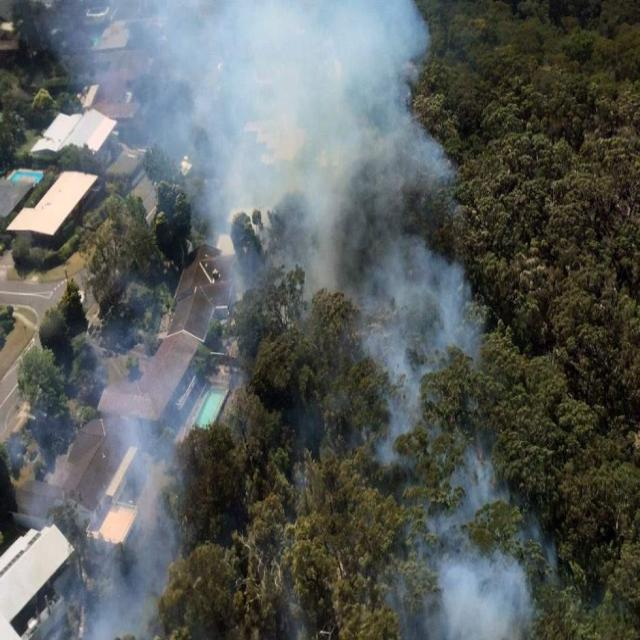Smoke: (69, 0, 457, 299), (68, 386, 174, 640), (364, 236, 485, 448), (434, 451, 521, 640)
